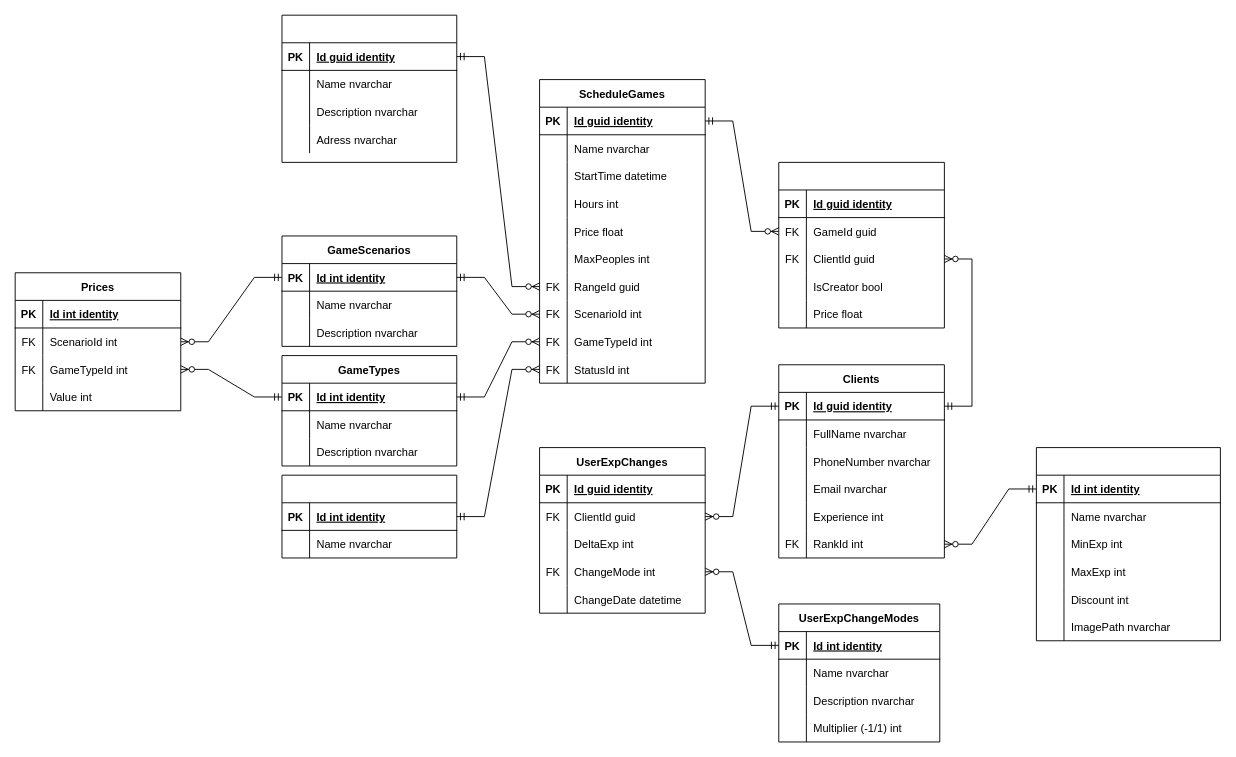
The diagram is 1236 pixels wide and 757 high, and some of its shapes have lost their labels. Here are the shapes that lost their labels. From the top down, the box of each, then its label:
(281, 14, 457, 162): ShootRanges
(778, 161, 944, 328): Players
(281, 474, 457, 558): GameStatuses
(1035, 447, 1220, 641): Ranks
